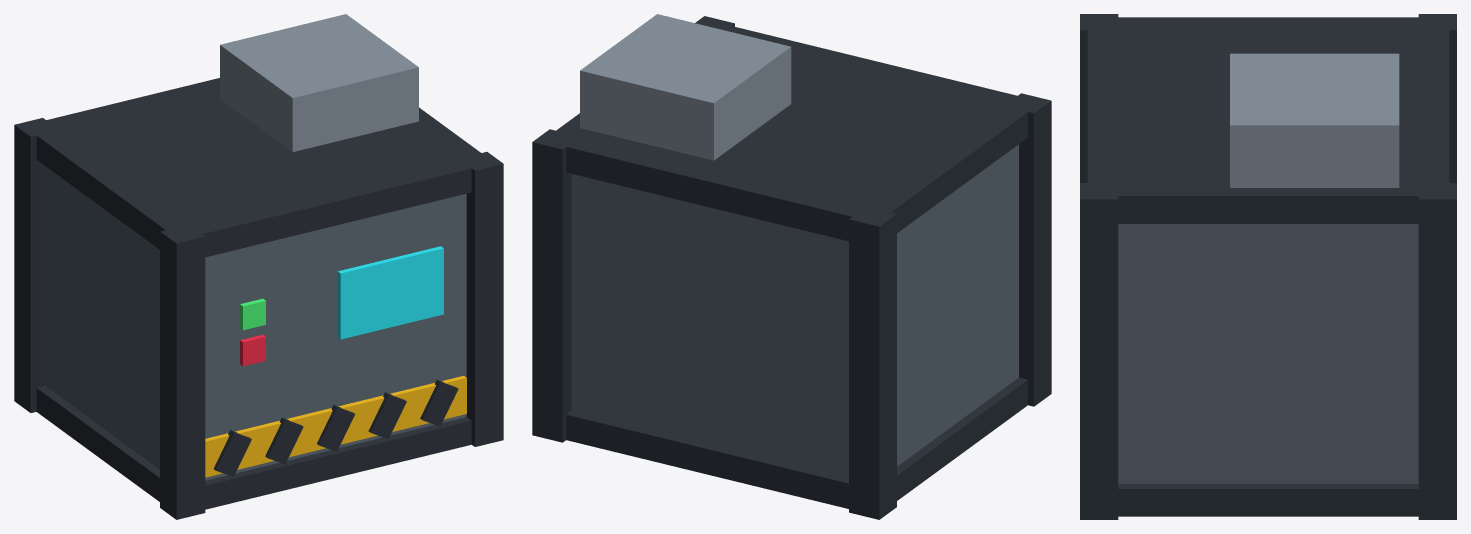
The model's file is TechCrate.fbx.
The picture shows the model from 3 angles, left to right: view 1: azimuth 30°, elevation 25°; view 2: azimuth 150°, elevation 25°; view 3: azimuth 270°, elevation 25°; orthographic projection. The views are drawn at different scales.
Parts seen in each view (by area): view 1: TechCrate, TechCrate_Glow; view 2: TechCrate; view 3: TechCrate.
Boxes of the visible parts, x1,y1,x2,y2 form: TechCrate: (14, 14, 503, 519); TechCrate_Glow: (240, 246, 443, 366); TechCrate: (532, 14, 1051, 519); TechCrate: (1080, 14, 1456, 519).
Size of the model in its own units: 285 by 275 by 245.
1 material, 1 textured.
